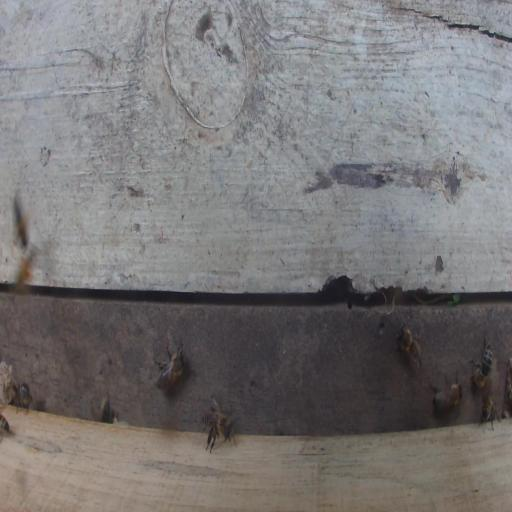bee: (202, 399, 235, 452), (154, 342, 187, 392), (12, 244, 38, 298), (468, 334, 493, 390), (395, 323, 422, 374), (432, 371, 463, 414), (480, 392, 501, 432), (13, 194, 28, 250), (10, 382, 32, 414), (100, 392, 118, 428), (0, 412, 10, 432)
